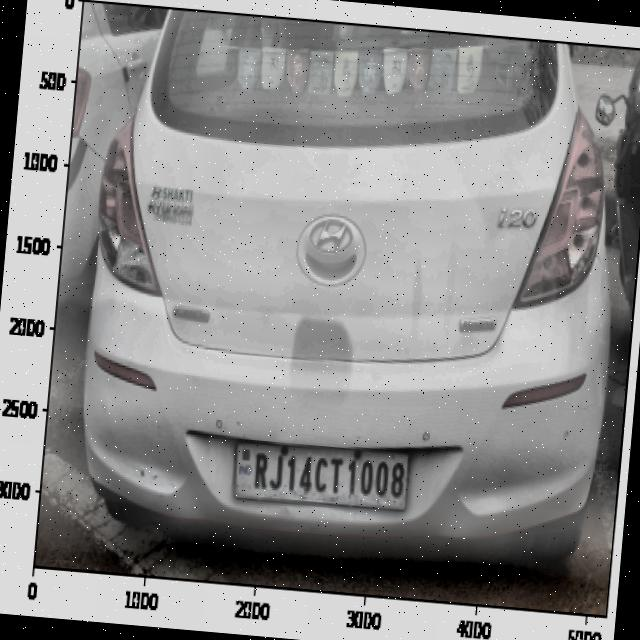license_plate: (238, 438, 412, 512)
